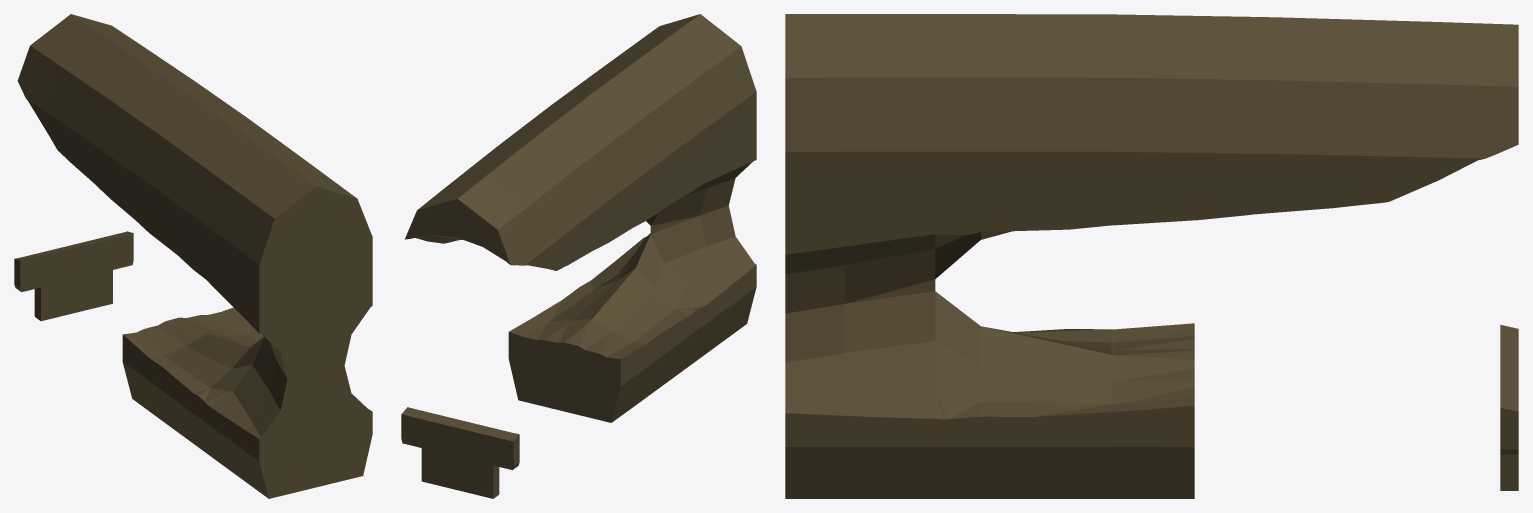
File: fuel_aft_center.fbx
The picture shows the model from 3 angles, left to right: view 1: azimuth 30°, elevation 25°; view 2: azimuth 150°, elevation 25°; view 3: azimuth 270°, elevation 25°; orthographic projection. The views are drawn at different scales.
Visible parts, largest first — view 1: fuel_aft_center; view 2: fuel_aft_center; view 3: fuel_aft_center.
Boxes of the visible parts, x1=… form: fuel_aft_center: x1=14, y1=14, x2=372, y2=498; fuel_aft_center: x1=401, y1=14, x2=756, y2=498; fuel_aft_center: x1=785, y1=14, x2=1518, y2=498.
Size of the model in its own units: 0.48 by 1.22 by 1.8.
